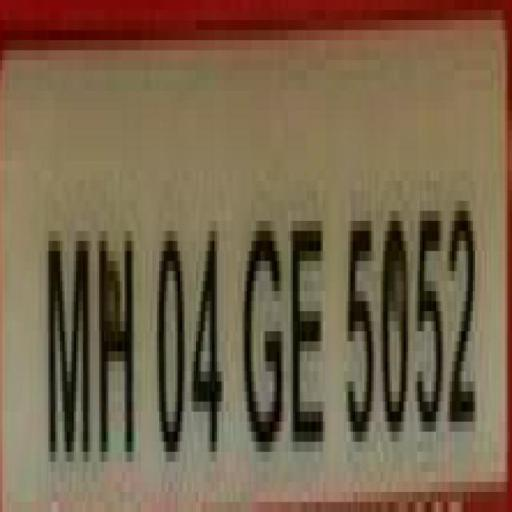number plate: (0, 49, 486, 512)
